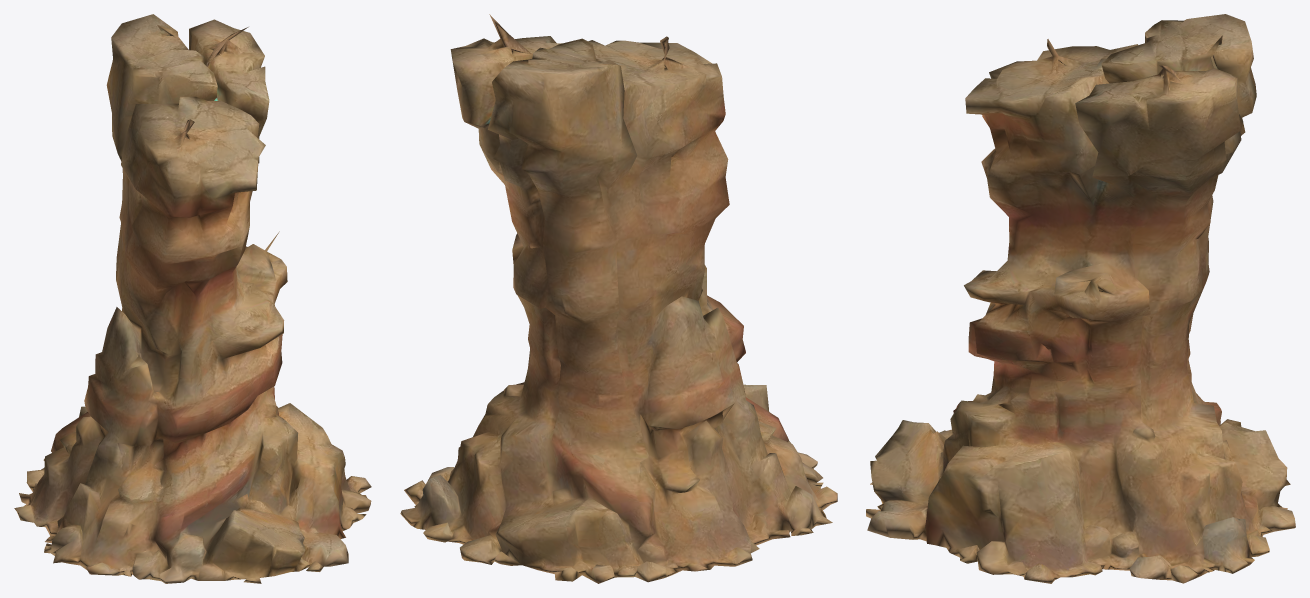
File: prop_tru_nham_do.e6d0216cd0.glb
The picture shows the model from 3 angles, left to right: view 1: azimuth 30°, elevation 25°; view 2: azimuth 150°, elevation 25°; view 3: azimuth 270°, elevation 25°; orthographic projection. The views are drawn at different scales.
Visible parts, largest first — view 1: prop_tru_nham_do; view 2: prop_tru_nham_do; view 3: prop_tru_nham_do.
Part boxes in pixels (box(x1,y1,x2,y2)): prop_tru_nham_do: box(14, 14, 371, 583); prop_tru_nham_do: box(400, 14, 837, 583); prop_tru_nham_do: box(866, 14, 1295, 583).
Size of what is drawn, in the model's own units: 6.11 by 8 by 6.43.
Materials: 1 (1 with a texture image).
